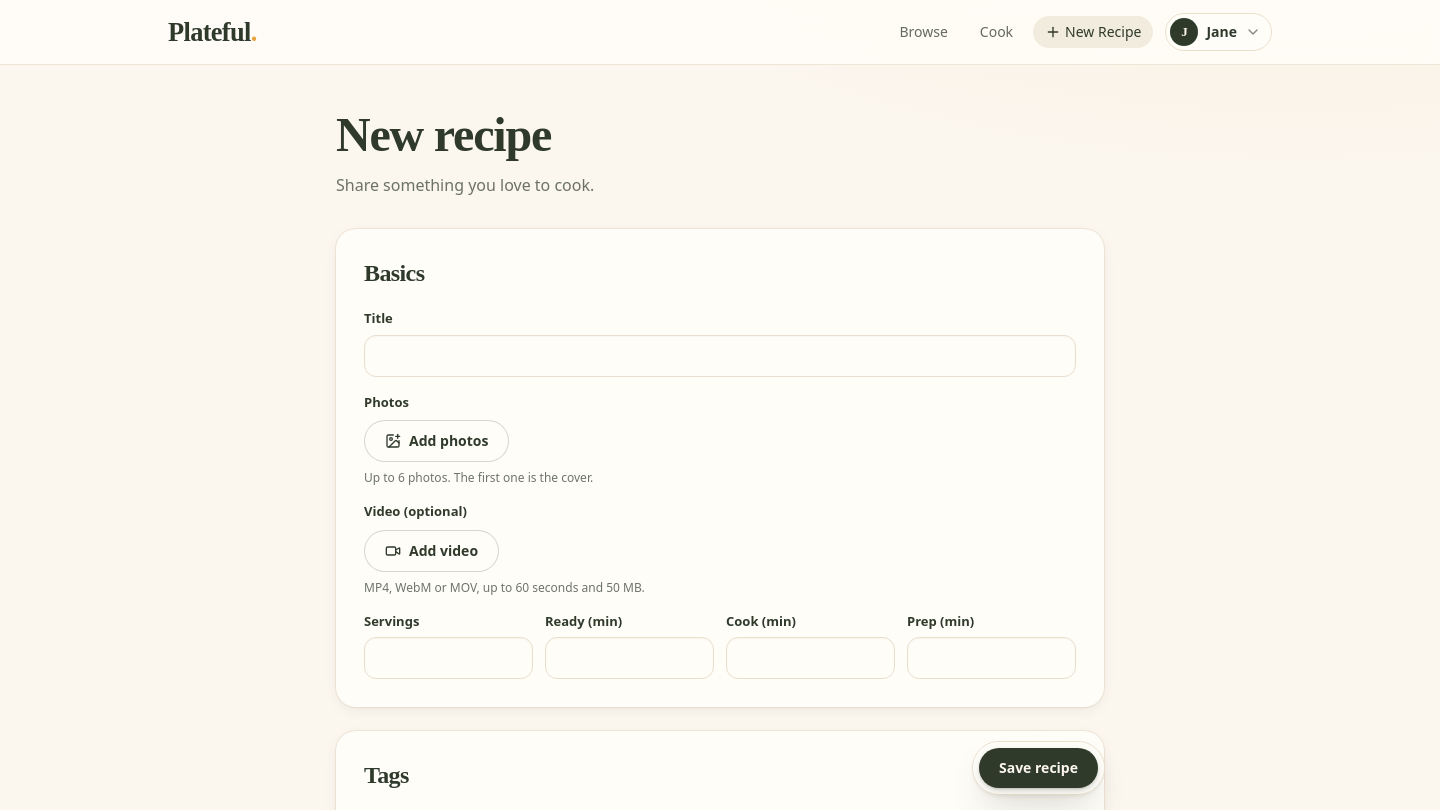
Scenario: server field errors from ProblemDetail map onto the form
Type "X" into the field labelled "Title" at (720, 356), box top-left (364, 334), bottom-right (1076, 376)
(page scrolled)
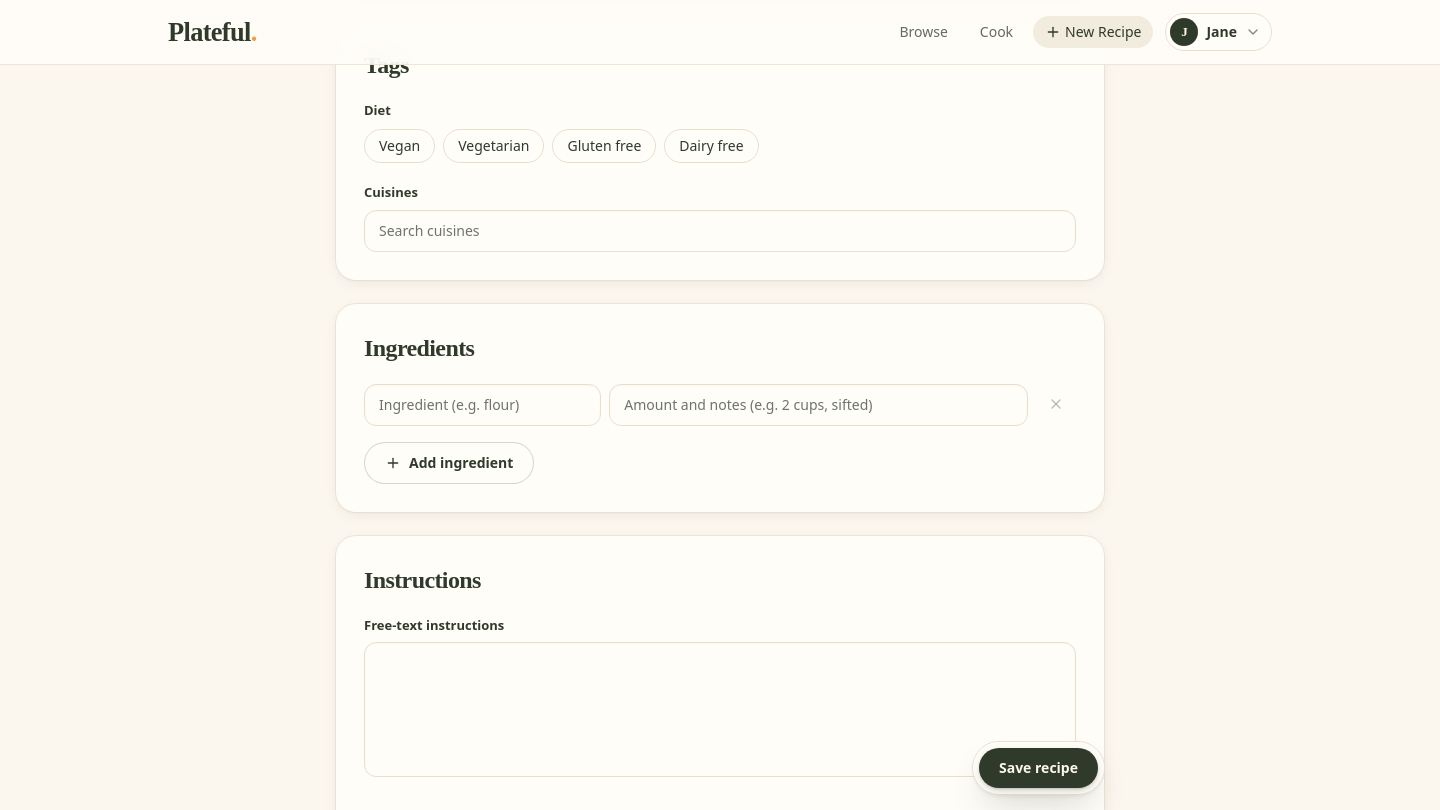
Type "a" into the field named "Ingredient 1" at (483, 405), box top-left (364, 384), bottom-right (601, 426)
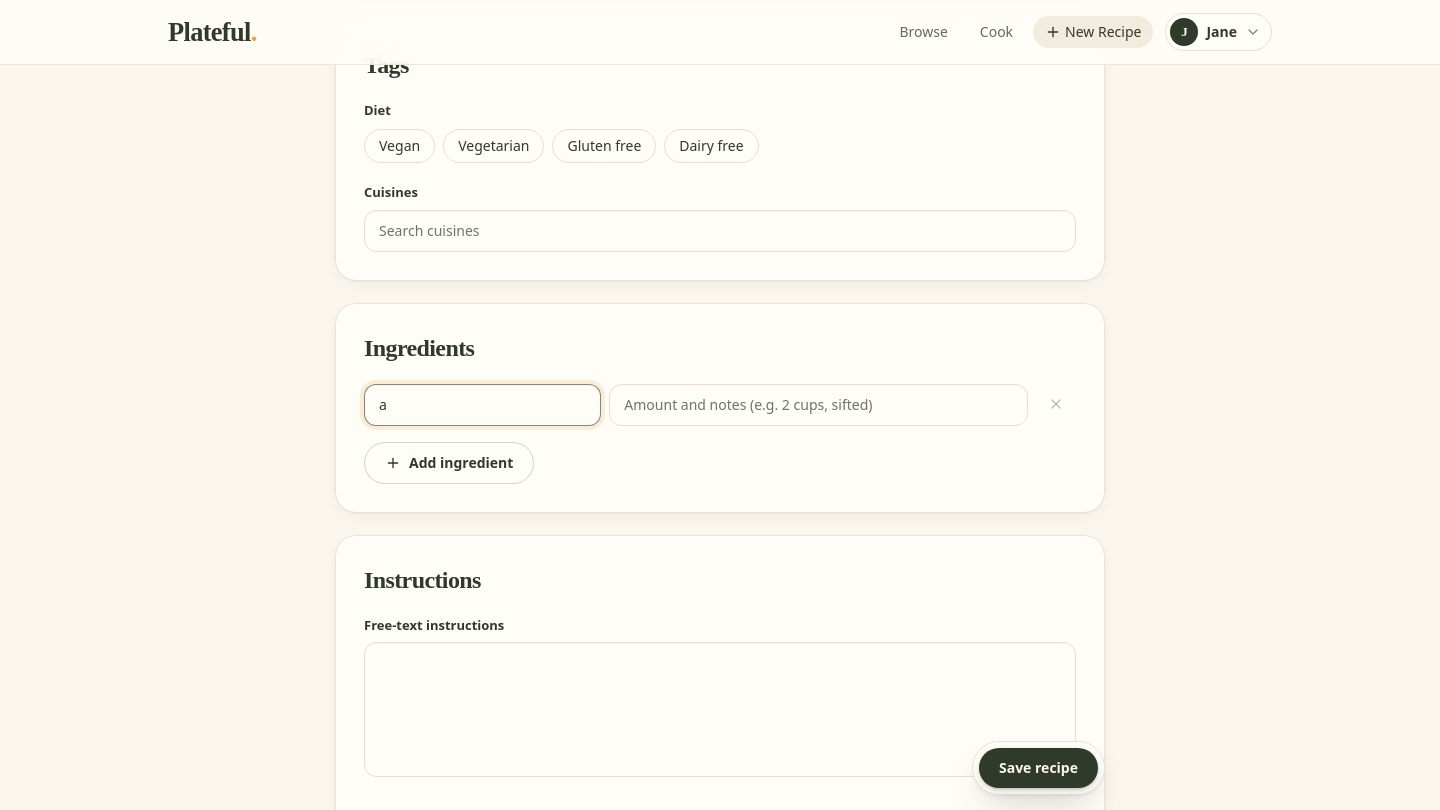
Type "b" into the field named "Ingredient 1 amount and notes" at (819, 405), box top-left (609, 384), bottom-right (1028, 426)
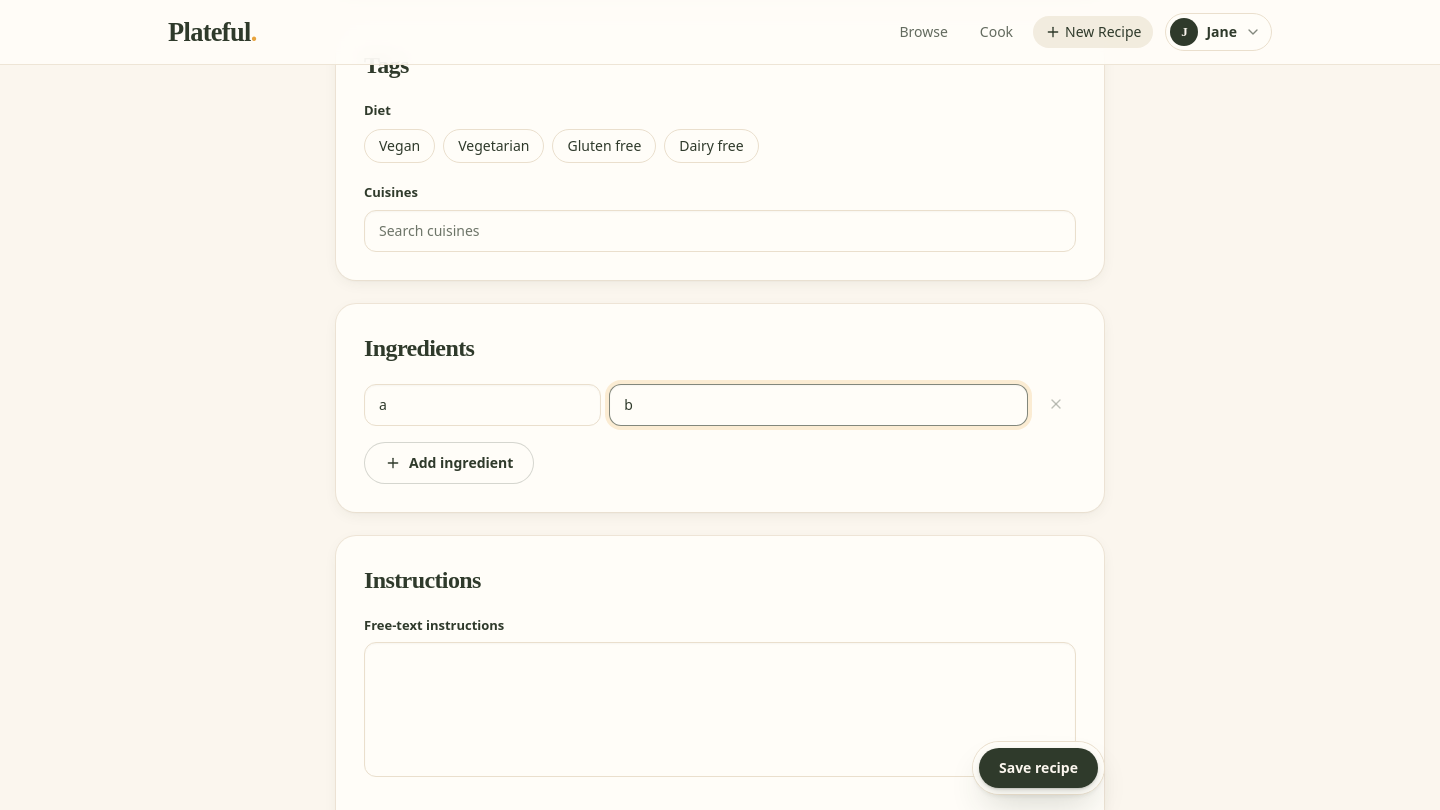
Click the button "Save recipe" at (1038, 768), box top-left (979, 748), bottom-right (1098, 788)
(page scrolled)
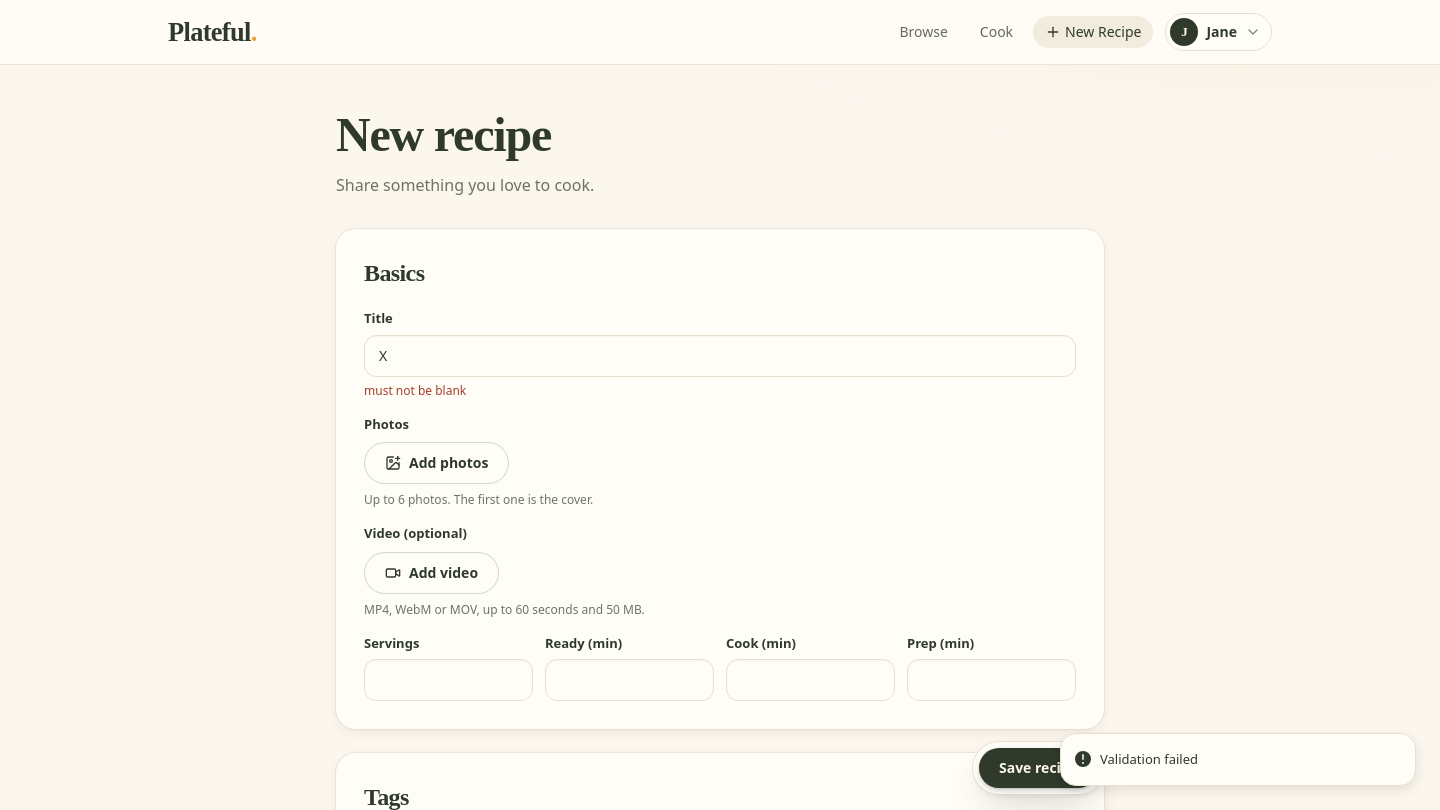
Now the text "must not be blank" is shown, box top-left (364, 382), bottom-right (466, 398)
